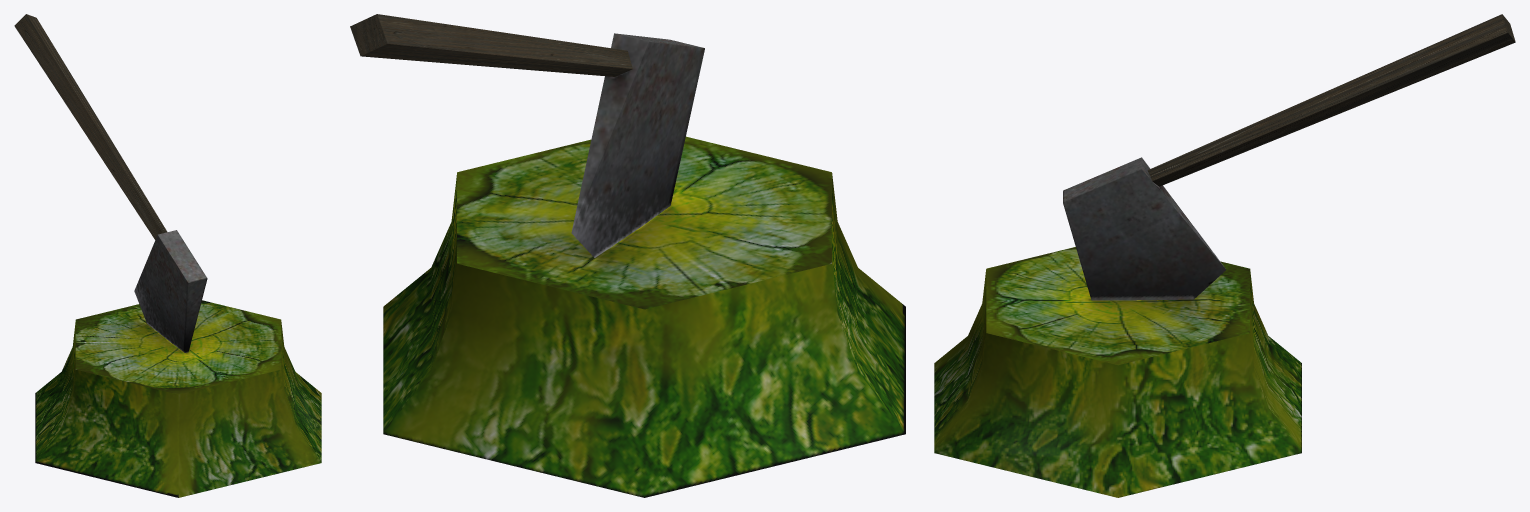
Rendered from prop_axenstump_green.FBX.
3 renders of one model, left to right at view 1: azimuth 30°, elevation 25°; view 2: azimuth 150°, elevation 25°; view 3: azimuth 270°, elevation 25°, orthographic. The views are drawn at different scales.
Visible parts, largest first — view 1: axenstump_green; view 2: axenstump_green; view 3: axenstump_green.
Boxes of the visible parts, x1,y1,x2,y2 form: axenstump_green: (14,14,321,497); axenstump_green: (350,14,905,497); axenstump_green: (934,14,1515,497).
Bounding box in the file's own units: 283 × 289 × 388.
